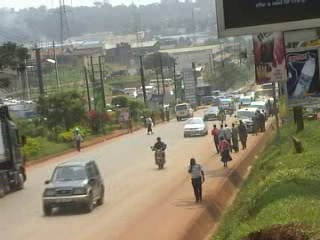Car: (41, 157, 107, 219), (182, 114, 209, 141), (202, 104, 224, 121), (236, 96, 256, 108)
Motorcycle: (148, 143, 169, 171), (217, 110, 225, 125), (225, 104, 233, 119)
